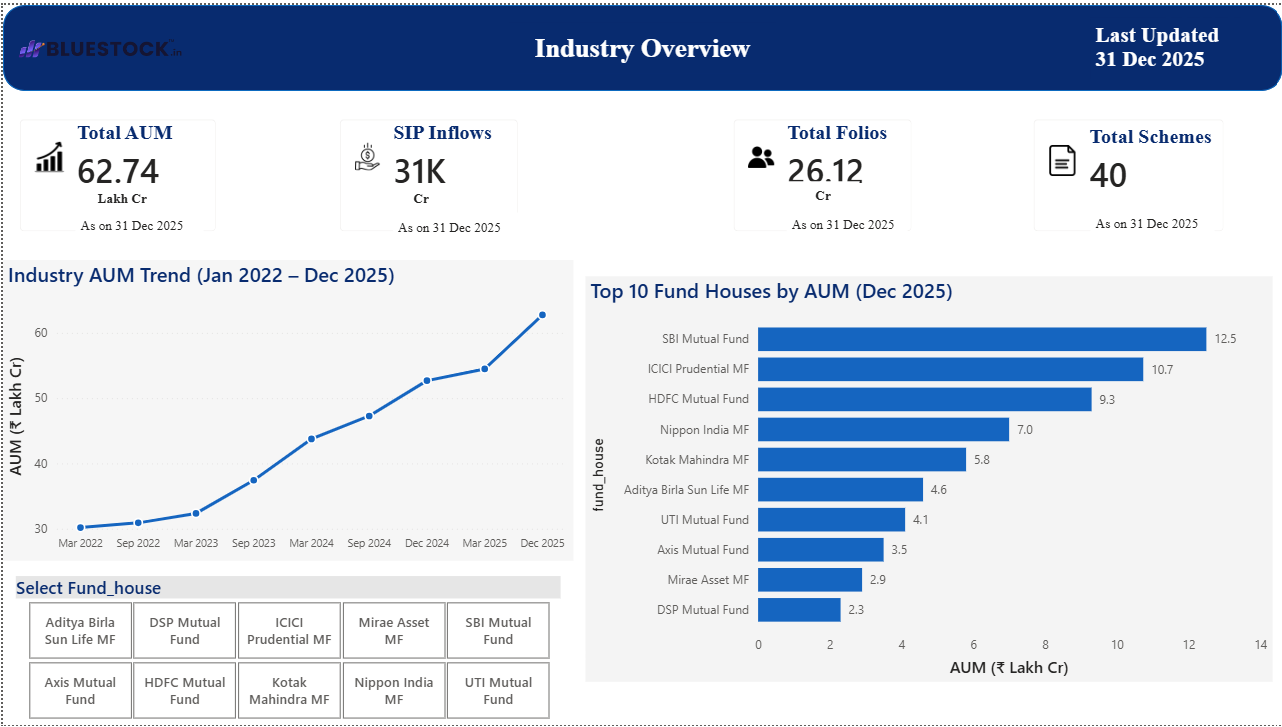

The page's visual inventory and layout, read from the dashboard file:
{"tool":"powerbi","page":{"name":"Industry Overview","canvas":[1280,720],"ordinal":0},"visuals":[{"type":"shape","box":[0,0,1280.3,86],"z":0},{"type":"image","box":[0,0,180.4,86.2],"z":1000},{"type":"textbox","box":[506.2,17.5,266.6,51.2],"z":2000},{"type":"textbox","box":[1087.8,12.1,150.8,61.9],"z":3000},{"type":"cardVisual","fields":{"Data":["clean_monthly_sip_inflows.SIP Inflows"]},"box":[320.4,96.9,212.7,146.7],"z":4000},{"type":"textbox","box":[390.4,179,56.5,32.3],"z":5000},{"type":"textbox","box":[390.4,207.3,125.2,32.3],"z":6000},{"type":"cardVisual","fields":{"Data":["clean_industry_folio_count.Total Folios"]},"box":[713.5,96.9,212.7,146.7],"z":7000},{"type":"textbox","box":[783.5,176.4,72.7,29.6],"z":8000},{"type":"textbox","box":[783.5,204.6,121.2,33.7],"z":9000},{"type":"cardVisual","fields":{"Data":["clean_fund_master.Total Schemes"]},"box":[1013.7,96.9,224.8,146.7],"z":10000},{"type":"textbox","box":[1087.8,203.3,123.9,35],"z":11000},{"type":"cardVisual","fields":{"Data":["clean_aum_by_fund_house.Total AUM"]},"box":[0,96.9,230.2,146.7],"z":12000},{"type":"textbox","box":[59.2,179,121.2,28.3],"z":13000},{"type":"textbox","box":[72.7,206,127.9,32.3],"z":14000},{"type":"lineChart","title":"Industry AUM Trend (Jan 2022 – Dec 2025)","fields":{"Y":["Sum(clean_aum_by_fund_house.aum_lakh_crore)"],"Category":["Calendar.Month Year"]},"box":[0,254.6,570.8,300.8],"z":15000},{"type":"clusteredBarChart","title":"Top 10 Fund Houses by AUM (Dec 2025)","fields":{"Category":["clean_aum_by_fund_house.fund_house"],"Y":["Sum(clean_aum_by_fund_house.aum_lakh_crore)"]},"box":[581.9,271.4,686.9,405.7],"z":16000},{"type":"slicer","fields":{"Values":["clean_aum_by_fund_house.fund_house"]},"box":[0,566.6,570.8,153.9],"z":17000}]}

Visuals, with their boxes in screenshot pixels (x1, y1, x2, y2), scaled from the page's 1280x720 canvas onto the 1282x727 screenshot:
shape: [left=0, top=0, right=1281, bottom=87]
image: [left=0, top=0, right=181, bottom=87]
textbox: [left=507, top=18, right=774, bottom=69]
textbox: [left=1089, top=12, right=1241, bottom=75]
cardVisual - clean_monthly_sip_inflows.SIP Inflows: [left=321, top=98, right=534, bottom=246]
textbox: [left=391, top=181, right=448, bottom=213]
textbox: [left=391, top=209, right=516, bottom=242]
cardVisual - clean_industry_folio_count.Total Folios: [left=715, top=98, right=928, bottom=246]
textbox: [left=785, top=178, right=858, bottom=208]
textbox: [left=785, top=207, right=906, bottom=241]
cardVisual - clean_fund_master.Total Schemes: [left=1015, top=98, right=1240, bottom=246]
textbox: [left=1089, top=205, right=1214, bottom=241]
cardVisual - clean_aum_by_fund_house.Total AUM: [left=0, top=98, right=231, bottom=246]
textbox: [left=59, top=181, right=181, bottom=209]
textbox: [left=73, top=208, right=201, bottom=241]
"Industry AUM Trend (Jan 2022 – Dec 2025)" lineChart: [left=0, top=257, right=572, bottom=561]
"Top 10 Fund Houses by AUM (Dec 2025)" clusteredBarChart: [left=583, top=274, right=1271, bottom=684]
slicer - clean_aum_by_fund_house.fund_house: [left=0, top=572, right=572, bottom=726]
